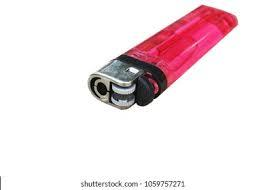lighter: (92, 6, 239, 114)
